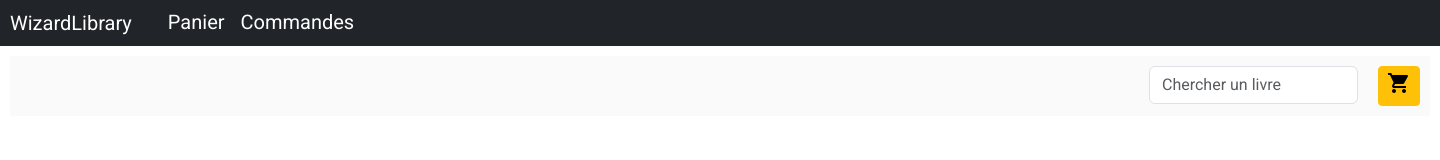
Test: Tests de la page Commandes › Devrait afficher une liste de commandes vide
Click the list item with id "navigateToOrders" at (306, 23), box [241,12,371,34]
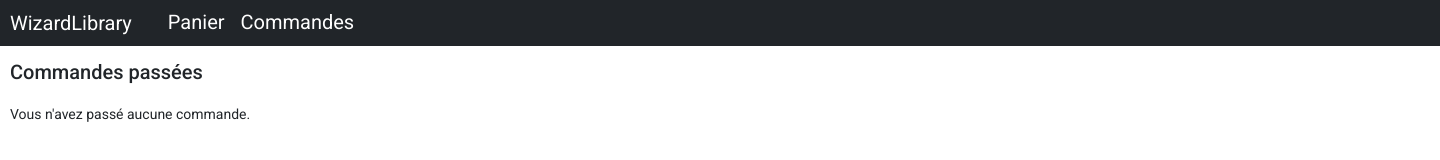
Check: the heading "Commandes passées" is shown, box [10,60,203,84]
Check: the text "Vous n'avez passé aucune commande." is shown, box [10,106,250,122]
